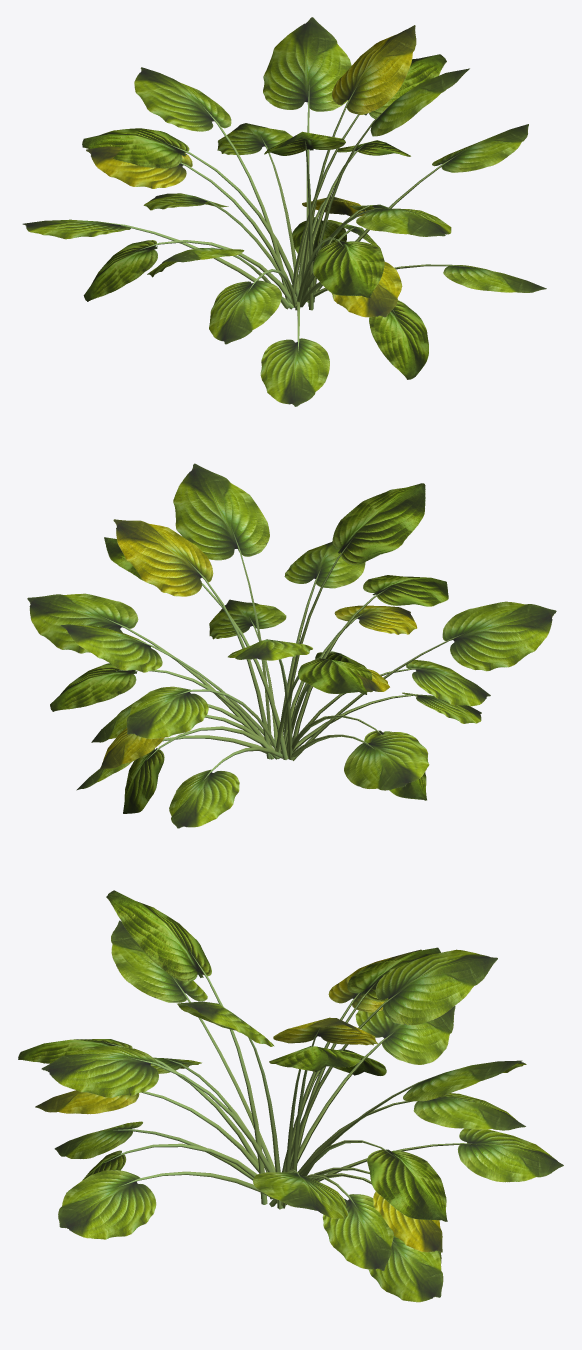
Rendered from SM_SmallEvergreenIvy.fbx.
3 renders of one model, top to bottom at view 1: azimuth 30°, elevation 25°; view 2: azimuth 150°, elevation 25°; view 3: azimuth 270°, elevation 25°, orthographic. The views are drawn at different scales.
Visible parts, largest first — view 1: SM_SmallEvergreenIvy_LOD0; view 2: SM_SmallEvergreenIvy_LOD0; view 3: SM_SmallEvergreenIvy_LOD0.
Boxes of the visible parts, x1,y1,x2,y2 form: SM_SmallEvergreenIvy_LOD0: (22,17,546,406); SM_SmallEvergreenIvy_LOD0: (27,463,556,828); SM_SmallEvergreenIvy_LOD0: (18,890,563,1302).
Bounding box in the file's own units: 85.05 × 73.88 × 48.94.
2 materials, 2 textured.
